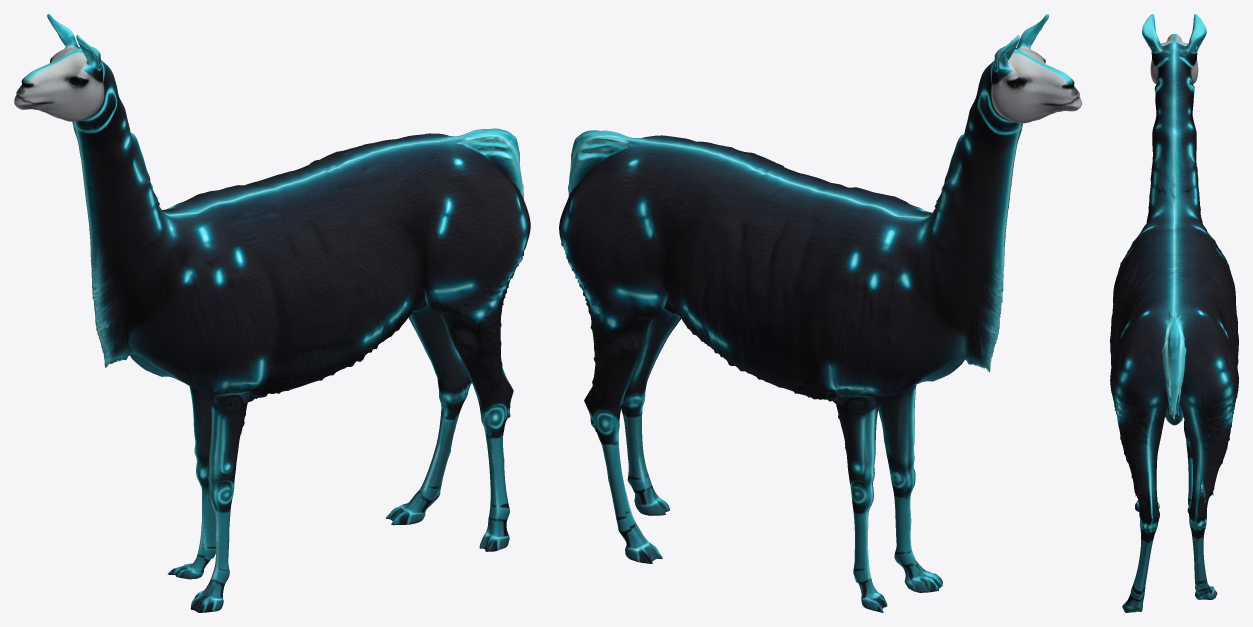
Rendered from lama_cyber.glb.
3 views of the same model, side by side, from view 1: azimuth 30°, elevation 25°; view 2: azimuth 150°, elevation 25°; view 3: azimuth 270°, elevation 25° (orthographic). The views are drawn at different scales.
Visible parts, largest first — view 1: tripo_node_6809bbcd-6e11-43cb-b934-f758a6dda0a2; view 2: tripo_node_6809bbcd-6e11-43cb-b934-f758a6dda0a2; view 3: tripo_node_6809bbcd-6e11-43cb-b934-f758a6dda0a2.
Part boxes in pixels (box(x1,y1,x2,y2)): tripo_node_6809bbcd-6e11-43cb-b934-f758a6dda0a2: box(14, 14, 530, 612); tripo_node_6809bbcd-6e11-43cb-b934-f758a6dda0a2: box(559, 14, 1081, 612); tripo_node_6809bbcd-6e11-43cb-b934-f758a6dda0a2: box(1110, 14, 1238, 612).
Bounding box in the file's own units: 0.8854 × 1 × 0.2602.
1 material, 1 textured.
